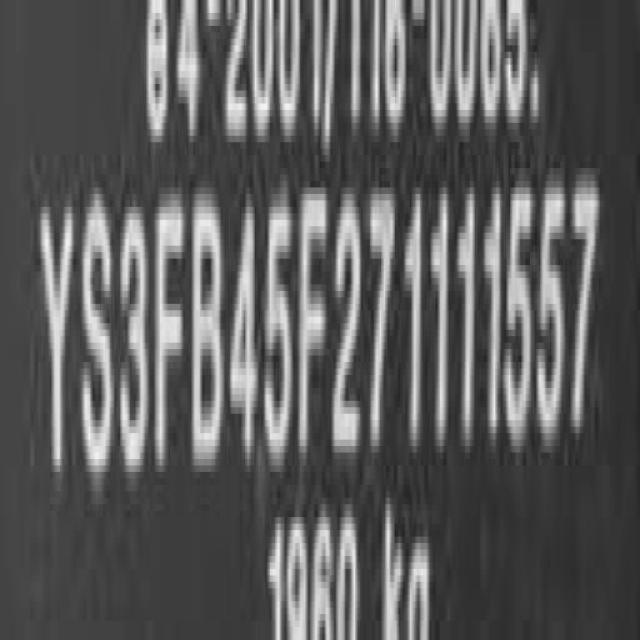1: (456, 178, 478, 465), (403, 179, 425, 465), (482, 179, 503, 463), (431, 182, 451, 464)
2: (332, 187, 362, 463)
3: (118, 196, 151, 486)
4: (229, 194, 259, 476)
5: (538, 172, 569, 459), (264, 188, 295, 467), (508, 177, 536, 460)
7: (569, 174, 601, 460), (369, 182, 397, 465)
B: (192, 189, 226, 479)
F: (156, 193, 187, 486), (299, 186, 330, 466)
S: (80, 200, 116, 492)
Y: (40, 189, 75, 481)
